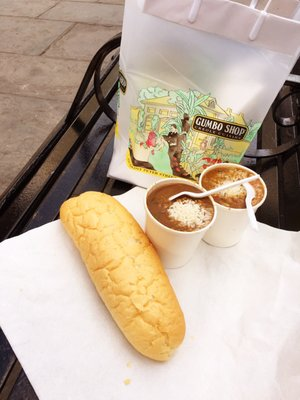pasta: (59, 190, 187, 363)
pizza: (144, 178, 217, 269), (200, 163, 267, 248)
